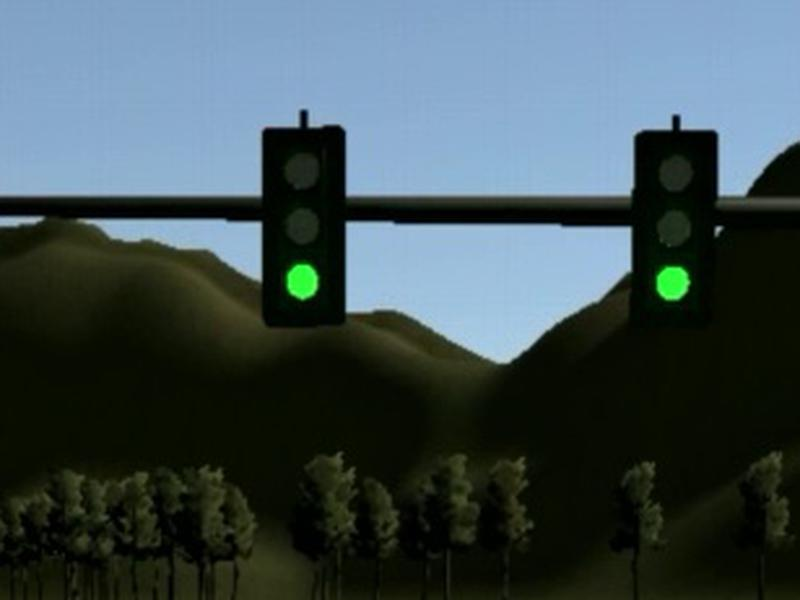Green: (260, 124, 349, 328), (634, 130, 719, 327)
